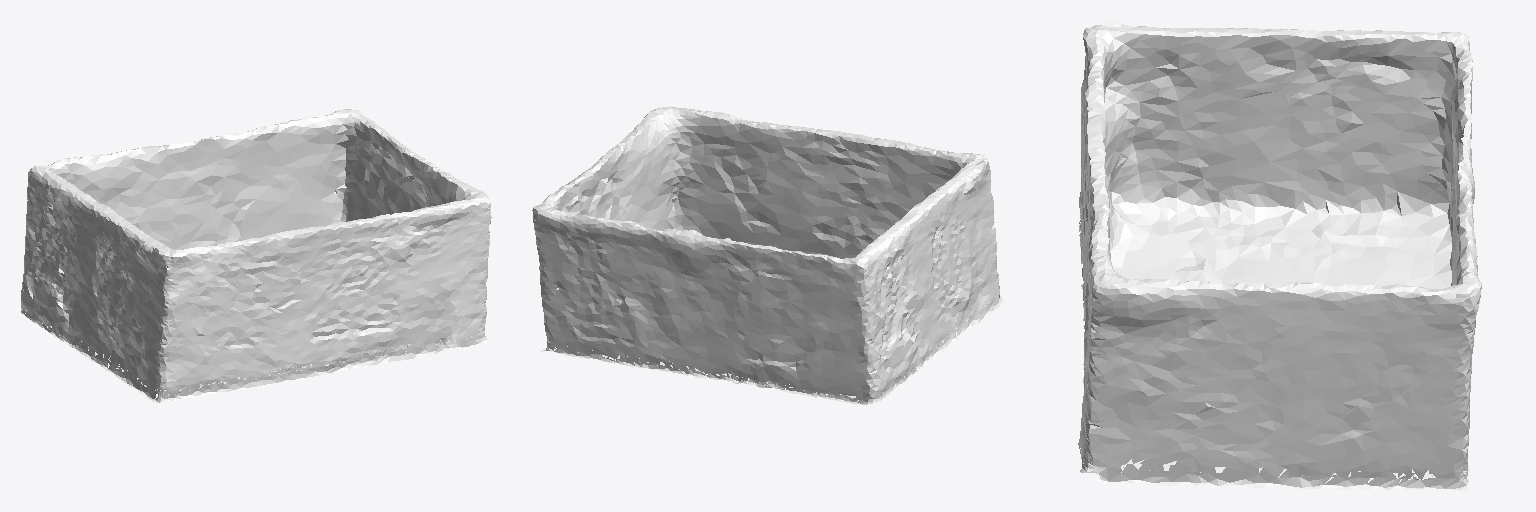
robot.urdf — boxbase:
<?xml version="1.0" ?>
<robot name="boxbase">
 <link name="baseLink">
   <contact>
     <lateral_friction value="2.0"/>
   </contact>
   <inertial>
     <origin rpy="0 0 0" xyz="0.003574 -0.025737 0.066161"/>
      <mass value="1.0"/>
      <inertia ixx="0.000005" ixy="0.000000" ixz="0.000000" iyy="0.000009" iyz="0.000000" izz="0.000012"/>
   </inertial>
   <visual>
     <origin rpy="0 0 0" xyz="0 0 0"/>
     <geometry>
       <mesh filename="boxbase.obj" scale="1.0 1.0 1.0"/>
     </geometry>
      <material name="white">
       <color rgba="1 1 1 1"/>
     </material>
   </visual>
   <collision>
     <origin rpy="0 0 0" xyz="0 0 0"/>
     <geometry>
       <mesh filename="boxbase_vhacd2.obj" scale="1.0 1.0 1.0"/>
     </geometry>
   </collision>
 </link>
</robot>

--- Facts derived from the render (not from the file) ---
3 views of the same robot in one strip: view 1: azimuth 30°, elevation 25°; view 2: azimuth 150°, elevation 25°; view 3: azimuth 270°, elevation 25° (orthographic).
Robot: boxbase — 1 links, 0 joints (none); root link baseLink; default pose: every joint at zero.
Visible links, largest first — view 1: baseLink; view 2: baseLink; view 3: baseLink.
Link boxes in pixels (left/top/right/bottom): baseLink: left=21, top=109, right=491, bottom=402; baseLink: left=532, top=106, right=1002, bottom=404; baseLink: left=1078, top=20, right=1481, bottom=490.
Bounding box of the posed robot: 0.2511 × 0.1767 × 0.1208 m (x, y, z).
Meshes: 1 distinct files referenced, 1 mesh visuals loaded (1 OBJ).